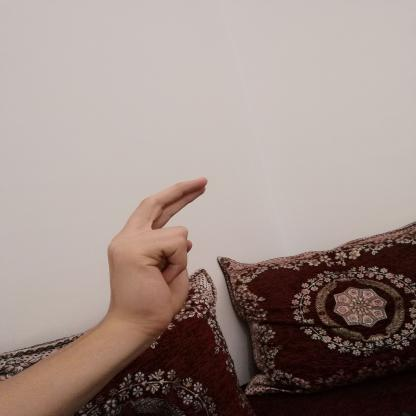ZAY: (94, 171, 222, 341)
